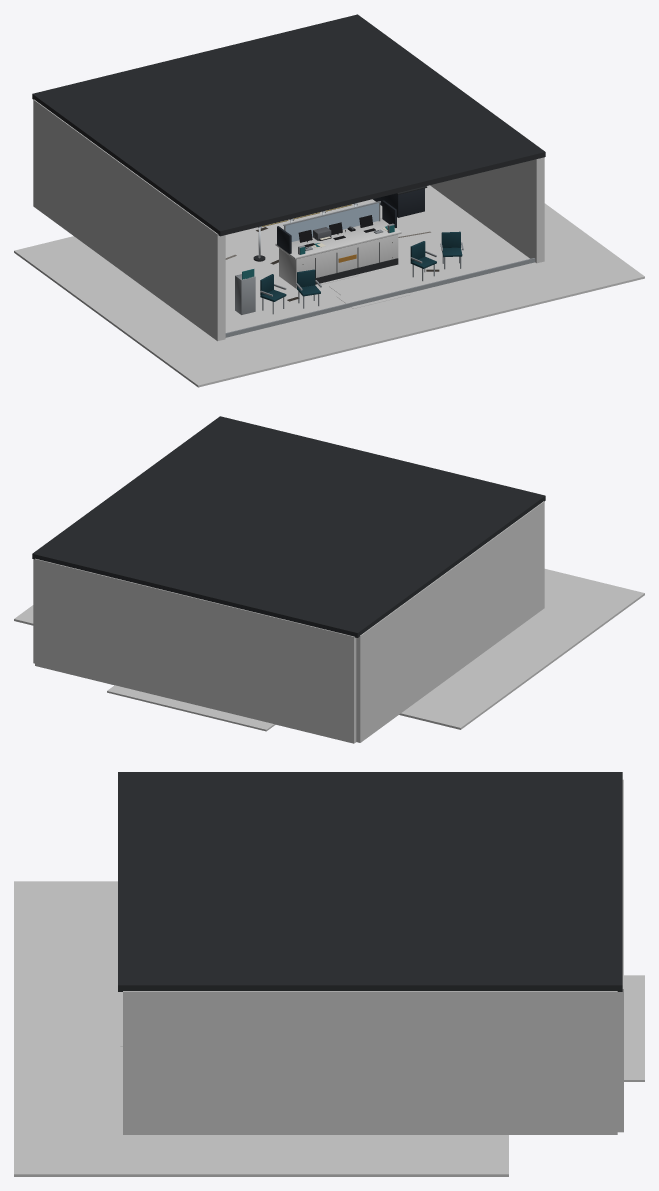
The model's file is hm_bank_interior_kit_v2.obj.
3 views of the same model, one above another, from view 1: azimuth 30°, elevation 25°; view 2: azimuth 150°, elevation 25°; view 3: azimuth 270°, elevation 25° (orthographic). The views are drawn at different scales.
Visible parts, largest first — view 1: KIT_Ceil, KIT_Floor, KIT_WallL, KIT_WallR, TC_Base, KIT_BB_Front, TC_Top, TC_Glass, SD_Desk, KIT_EntranceWear_0, KIT_BrochureStand, KIT_EntranceWear_1 (+1 smaller); view 2: KIT_Ceil, KIT_WallBack, KIT_WallL, KIT_Floor, KIT_VaultFloor; view 3: KIT_Ceil, KIT_WallR, KIT_Floor, KIT_VaultFloor, KIT_WallBack.
Part boxes in pixels (box(x1,y1,x2,y2)): KIT_Ceil: box(32, 14, 545, 236); KIT_Floor: box(14, 185, 644, 387); KIT_WallL: box(33, 99, 225, 341); KIT_WallR: box(430, 157, 544, 263); TC_Base: box(279, 234, 398, 288); KIT_BB_Front: box(225, 258, 535, 337); TC_Top: box(276, 218, 401, 259); TC_Glass: box(284, 203, 378, 241); SD_Desk: box(373, 188, 424, 217); KIT_EntranceWear_0: box(337, 282, 410, 308); KIT_BrochureStand: box(235, 274, 255, 314); KIT_EntranceWear_1: box(329, 274, 388, 295); KIT_Ceil: box(32, 416, 545, 637); KIT_WallBack: box(35, 558, 356, 743); KIT_WallL: box(356, 501, 544, 742); KIT_Floor: box(14, 569, 644, 729); KIT_VaultFloor: box(107, 685, 275, 731); KIT_Ceil: box(118, 772, 622, 991); KIT_WallR: box(123, 991, 617, 1134); KIT_Floor: box(14, 881, 508, 1176); KIT_VaultFloor: box(624, 975, 644, 1081); KIT_WallBack: box(617, 779, 623, 1132).
Bounding box in the file's own units: 14 × 3.39 × 12.75.
